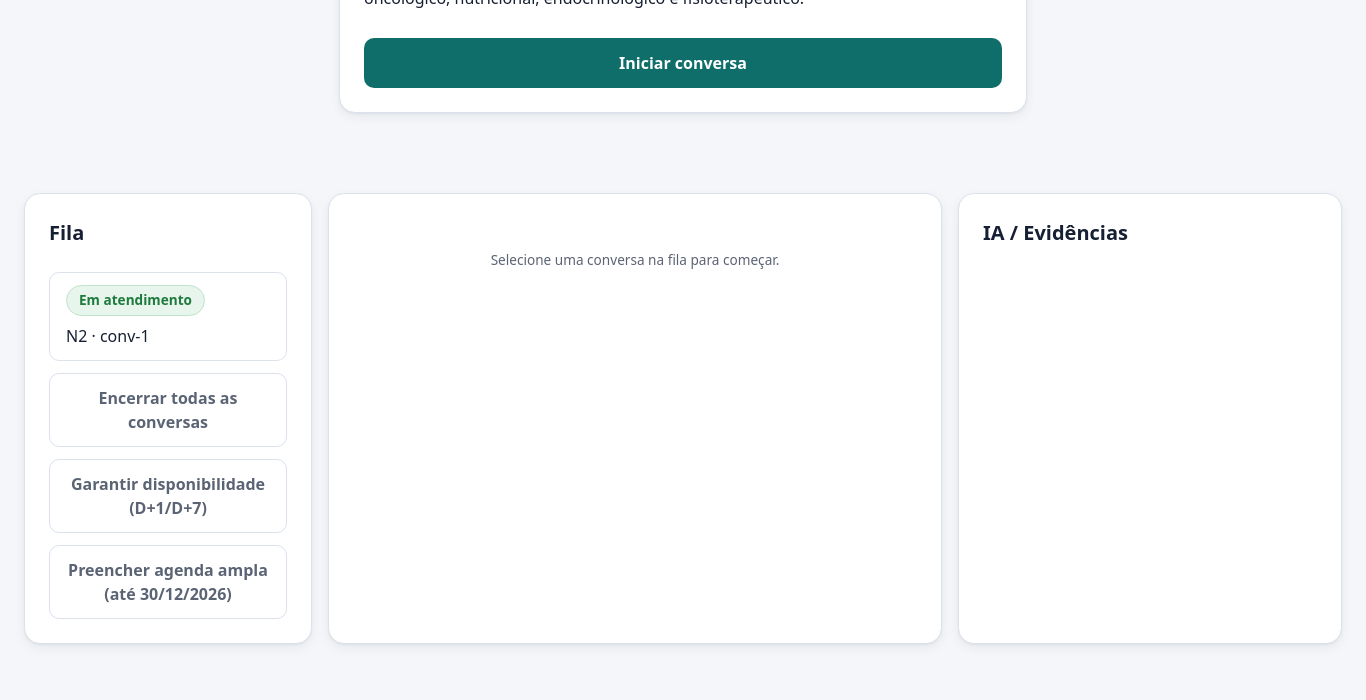
Test: V1 routes › generates an appointment-availability offer as a draft, between Enviar and Encerrar conversa, sending nothing (012/OB-4)
The image size is (1366, 700).
(page scrolled)
Step 1. Click the button "Em atendimento N2 · conv-1" → (168, 316), box [49, 272, 287, 361]
(page scrolled)
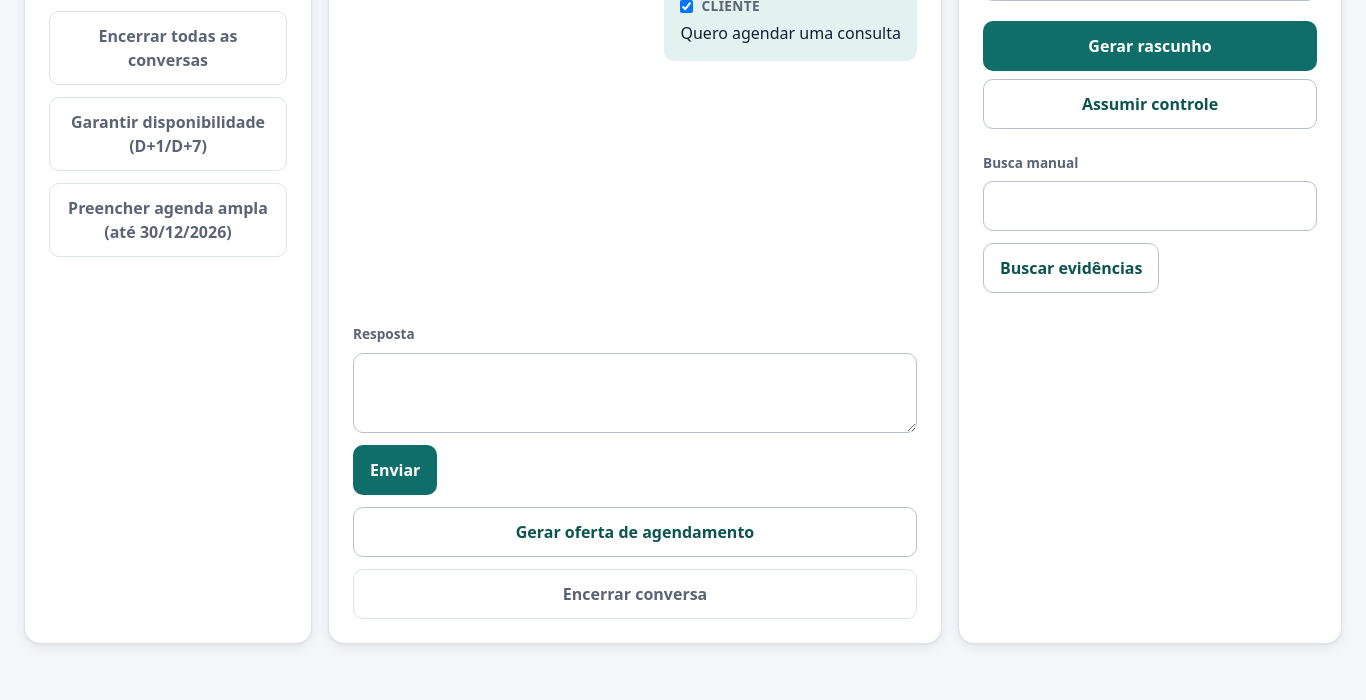
Now the button "Gerar oferta de agendamento" is enabled
Step 2. Click the button "Gerar oferta de agendamento" → (635, 532), box [353, 507, 917, 557]
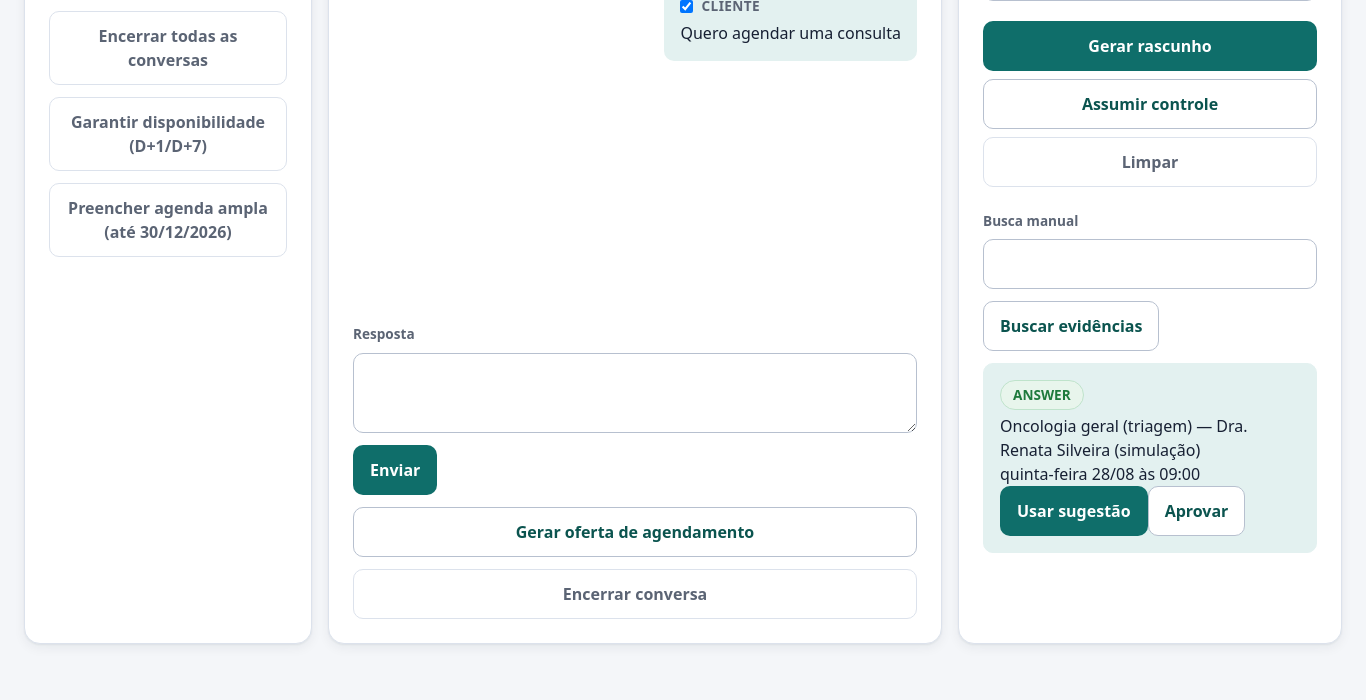
Now the text "Oncologia geral (triagem)" is shown, box [1000, 415, 1252, 485]
